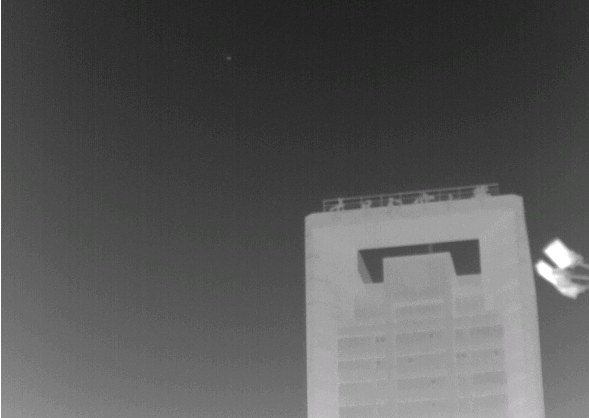dim target: (226, 55, 232, 61)
